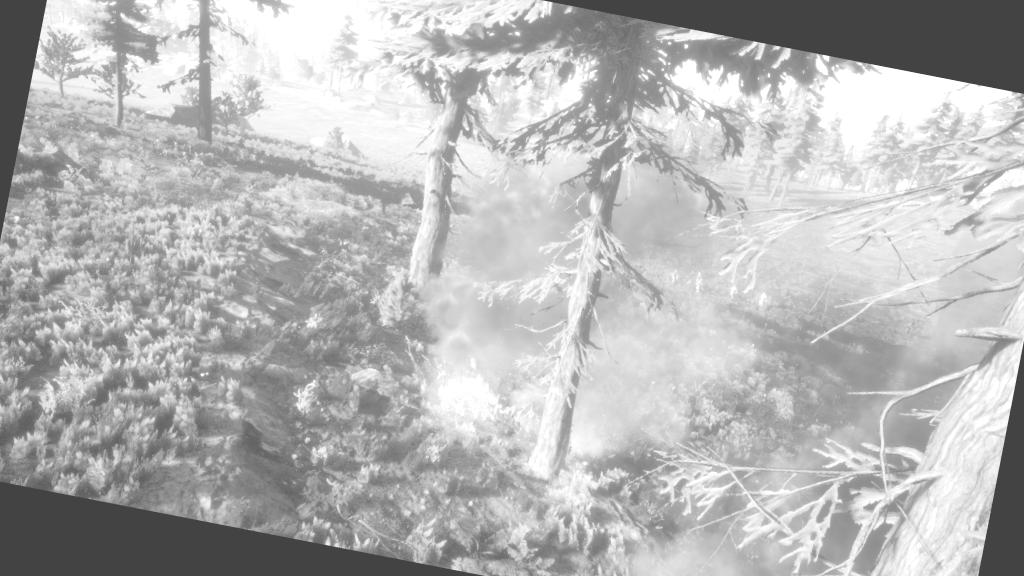Fire: (384, 278, 636, 520)
human: (750, 287, 771, 313), (688, 269, 708, 296), (724, 280, 744, 304), (682, 266, 697, 290), (666, 266, 682, 286)
smoke: (405, 86, 750, 449), (627, 368, 1005, 575)
